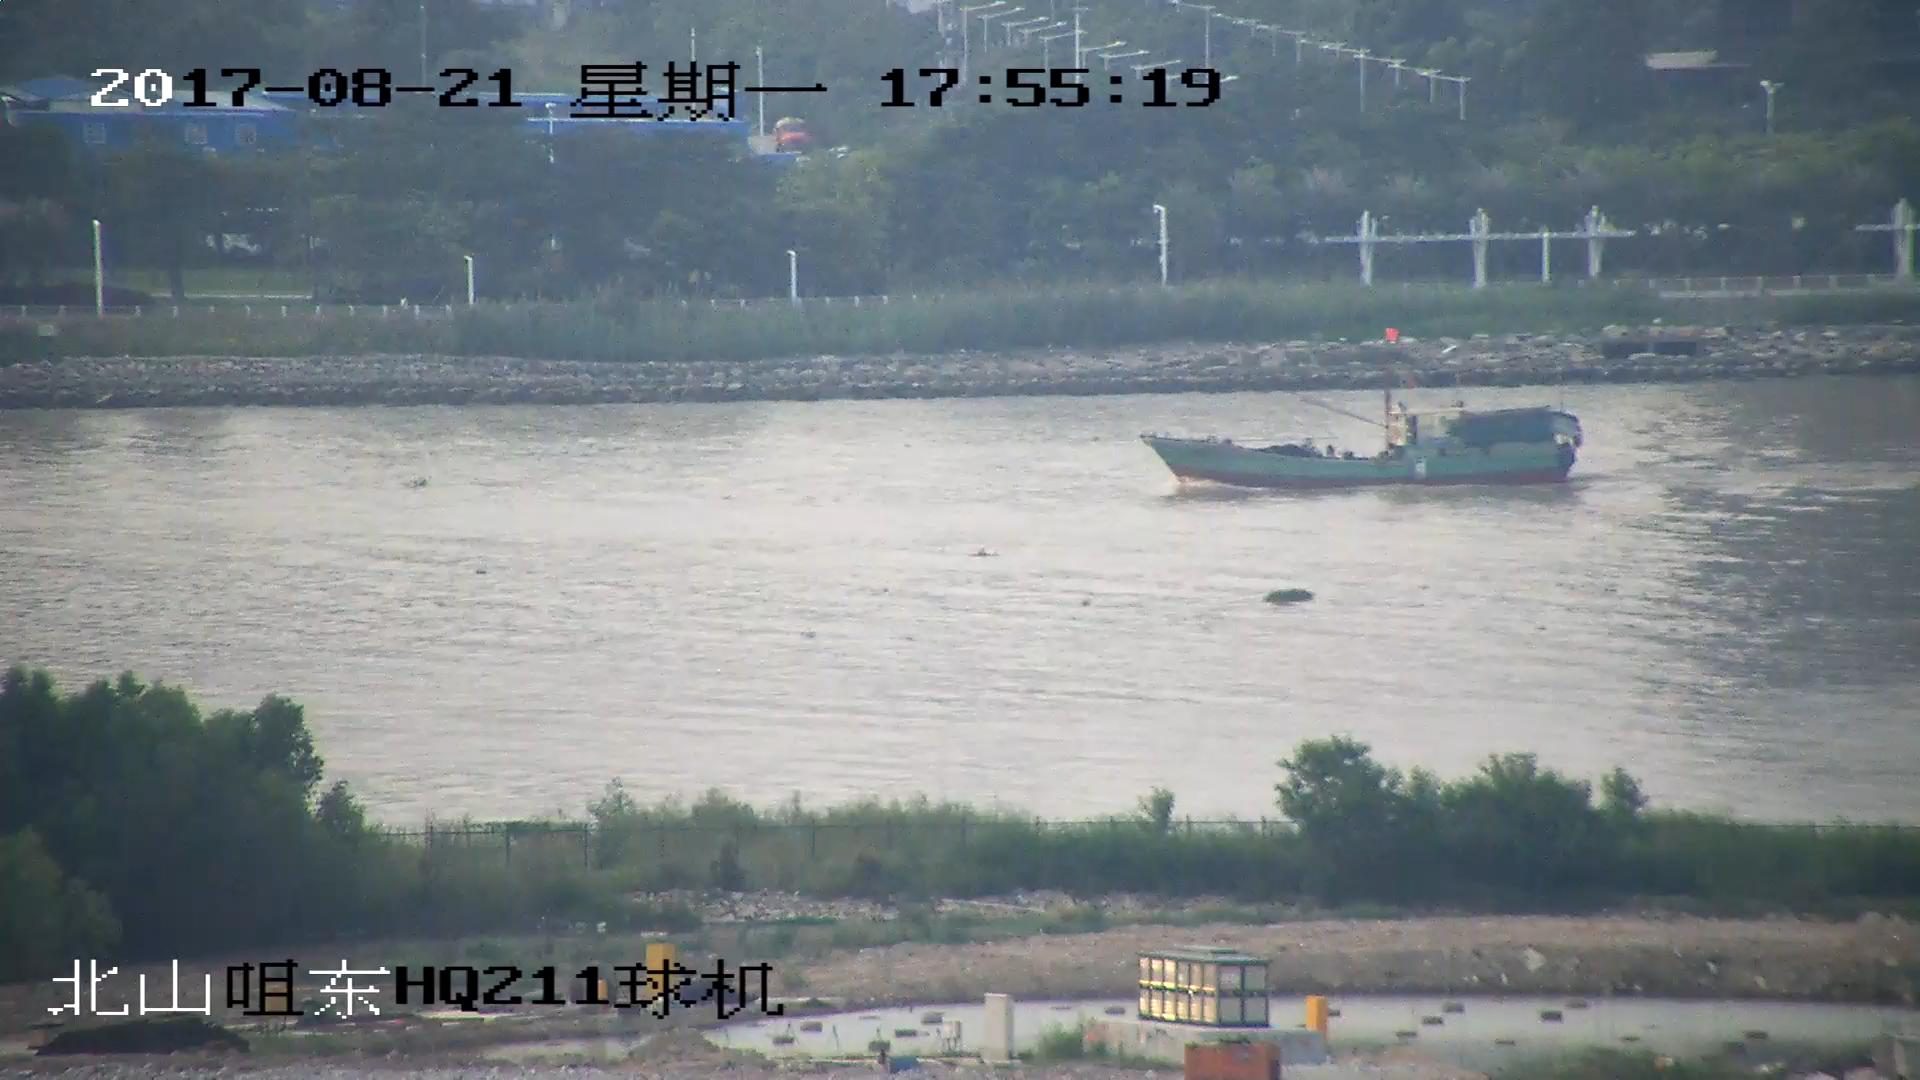fishing boat: (1159, 324, 1590, 484)
